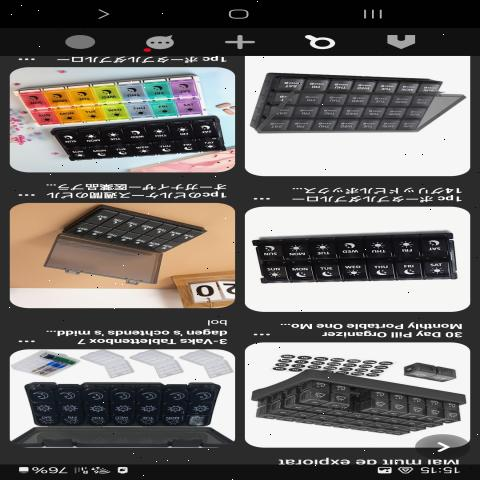PillBox: (240, 58, 462, 147), (251, 225, 462, 294), (42, 208, 204, 259), (34, 126, 234, 158)
